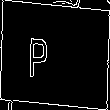P_N: (44, 29, 66, 81)
